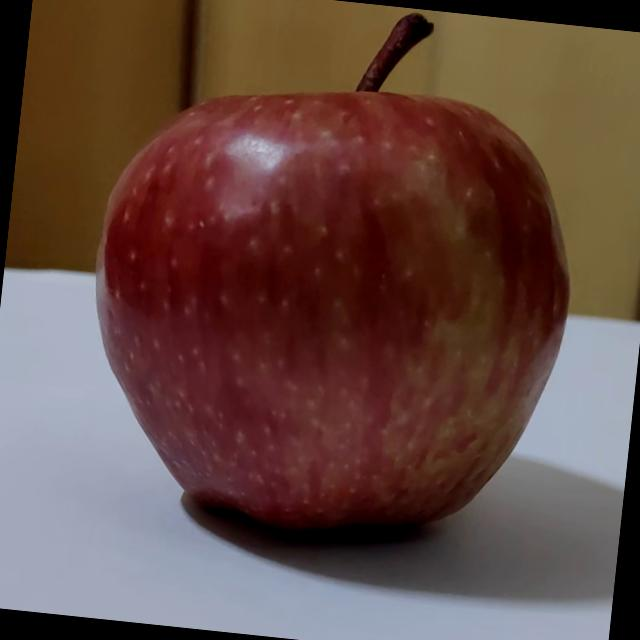apple: (62, 0, 596, 574)
